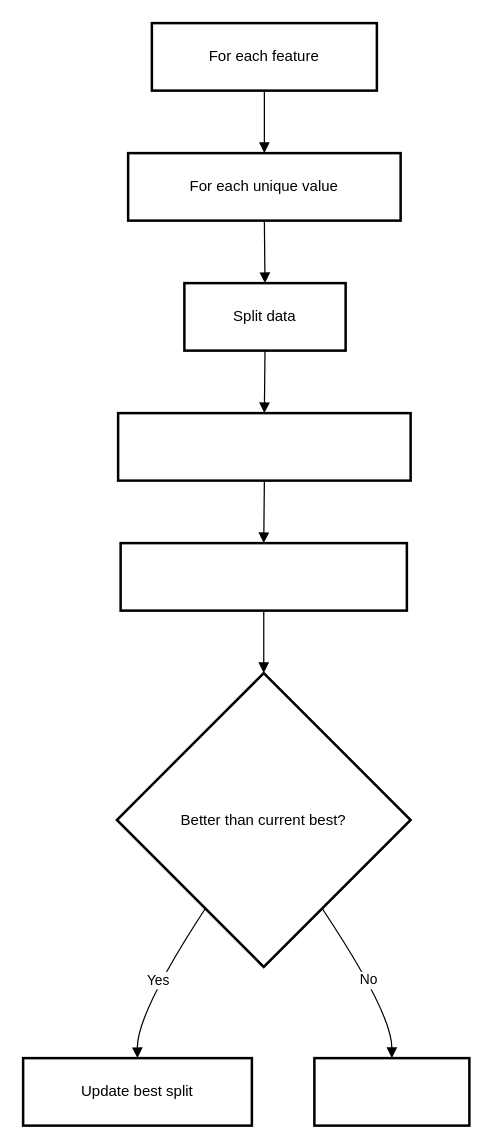
The diagram is 491 pixels wide and 1148 high, and some of its shapes have lost their labels. The shapes that lost their labels are listed below. From the top down, each one's box as (x1, y1, x2, y2) in pixels, then its label:
(116, 411, 411, 481): Fit models on both sides
(119, 541, 408, 611): Calculate weighted loss
(312, 1056, 470, 1126): Continue
